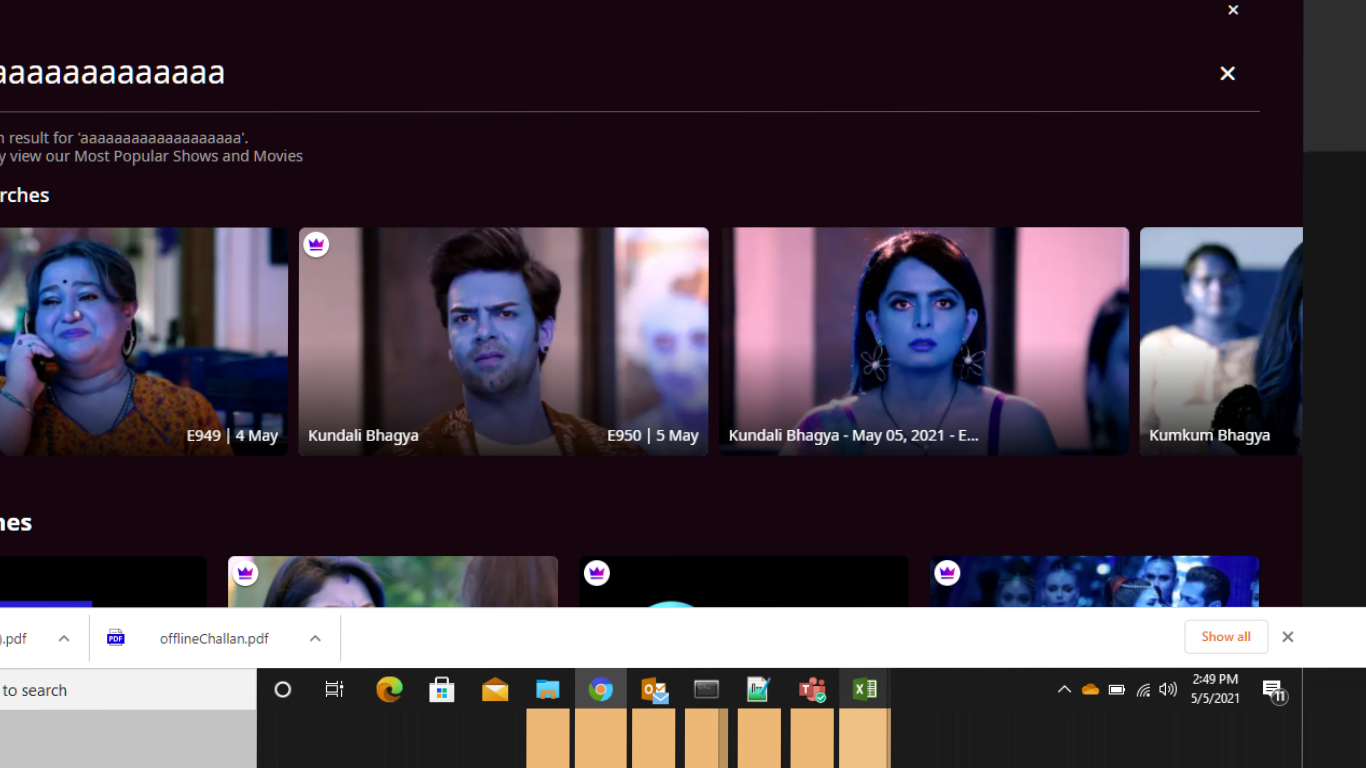noresultsfound: (1, 123, 320, 181)
searchtextbox: (7, 44, 1238, 101)
